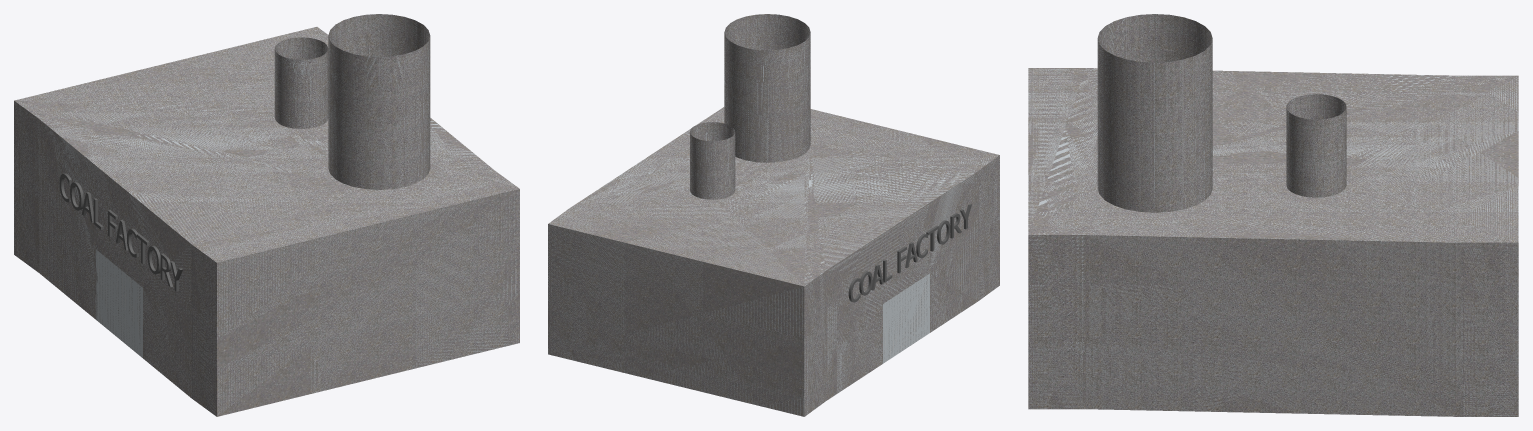
Rendered from coalfactory.glb.
The picture shows the model from 3 angles, left to right: view 1: azimuth 30°, elevation 25°; view 2: azimuth 150°, elevation 25°; view 3: azimuth 270°, elevation 25°; orthographic projection. The views are drawn at different scales.
Visible parts, largest first — view 1: SketchUp, SketchUp.004, SketchUp.006, SketchUp.001, instance_0.015; view 2: SketchUp, SketchUp.004, SketchUp.006, SketchUp.001, instance_0.015; view 3: SketchUp, SketchUp.004, SketchUp.006.
Boxes of the visible parts, x1=… form: SketchUp: x1=14, y1=26, x2=519, y2=416; SketchUp.004: x1=328, y1=14, x2=430, y2=189; SketchUp.006: x1=274, y1=37, x2=328, y2=128; SketchUp.001: x1=96, y1=250, x2=142, y2=357; instance_0.015: x1=59, y1=173, x2=182, y2=291; SketchUp: x1=548, y1=107, x2=999, y2=416; SketchUp.004: x1=724, y1=14, x2=810, y2=162; SketchUp.006: x1=690, y1=122, x2=735, y2=199; SketchUp.001: x1=883, y1=273, x2=929, y2=363; instance_0.015: x1=848, y1=203, x2=971, y2=302; SketchUp: x1=1028, y1=68, x2=1518, y2=416; SketchUp.004: x1=1097, y1=14, x2=1212, y2=212; SketchUp.006: x1=1286, y1=94, x2=1346, y2=197.
Size of the model in its own units: 3.19 by 2.74 by 3.76.
Materials: 5 (2 with a texture image).
